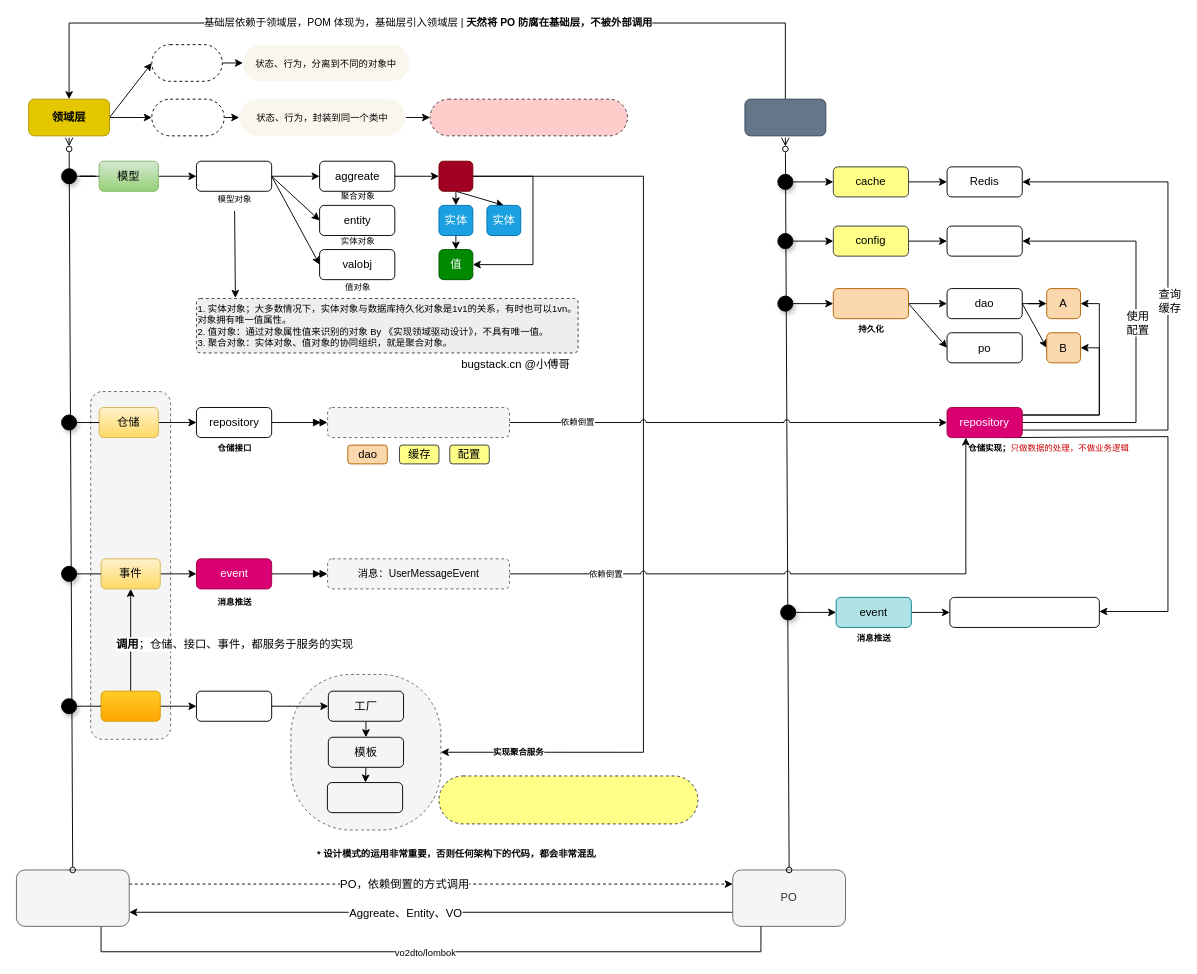
This 1197x974 diagram has some shape labels left out. The centre of each missing label's shape, as x and y in pixels:
"EventPublisher 工具包" belongs at (x=1024, y=611).
"model" belongs at (x=234, y=175).
"persistent" belongs at (x=870, y=303).
"service" belongs at (x=234, y=705).
"但这还远远不够，只有把一个 领域包 看做一个充血结构，才会更易于维护。" belongs at (x=528, y=117).
"充血模型" belongs at (x=187, y=117).
"基础层" belongs at (x=785, y=117).
"接口：XxxEntity IXxxRepositoty" belongs at (x=418, y=422).
"服务" belongs at (x=130, y=705).
"策略" belongs at (x=364, y=797).
"聚合" belongs at (x=455, y=175).
"聚合只做简单，单一对象的封装，不要跨对象做业务逻辑处理。否则后期非常难维护。你应该把复杂的业务封装到 service 来处理。在服务中调用，仓储、接口、事件。" belongs at (x=568, y=799).
"贫血模型" belongs at (x=186, y=62).
"配置中心" belongs at (x=984, y=240).
"领域对象 ( Aggreate 、Entity、VO )" belongs at (x=72, y=897).
